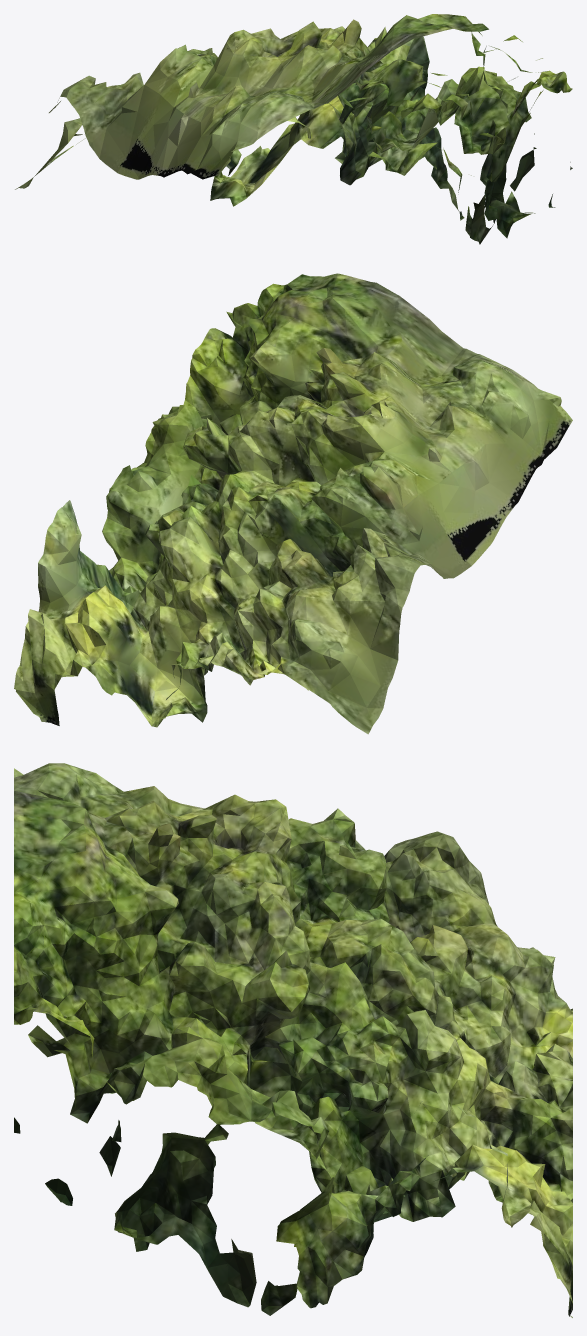
The picture shows the model from 3 angles, top to bottom: view 1: azimuth 30°, elevation 25°; view 2: azimuth 150°, elevation 25°; view 3: azimuth 270°, elevation 25°; orthographic projection. The views are drawn at different scales.
Bounding box in the file's own units: 52.22 × 45.24 × 52.22.
5 materials, 5 textured.
